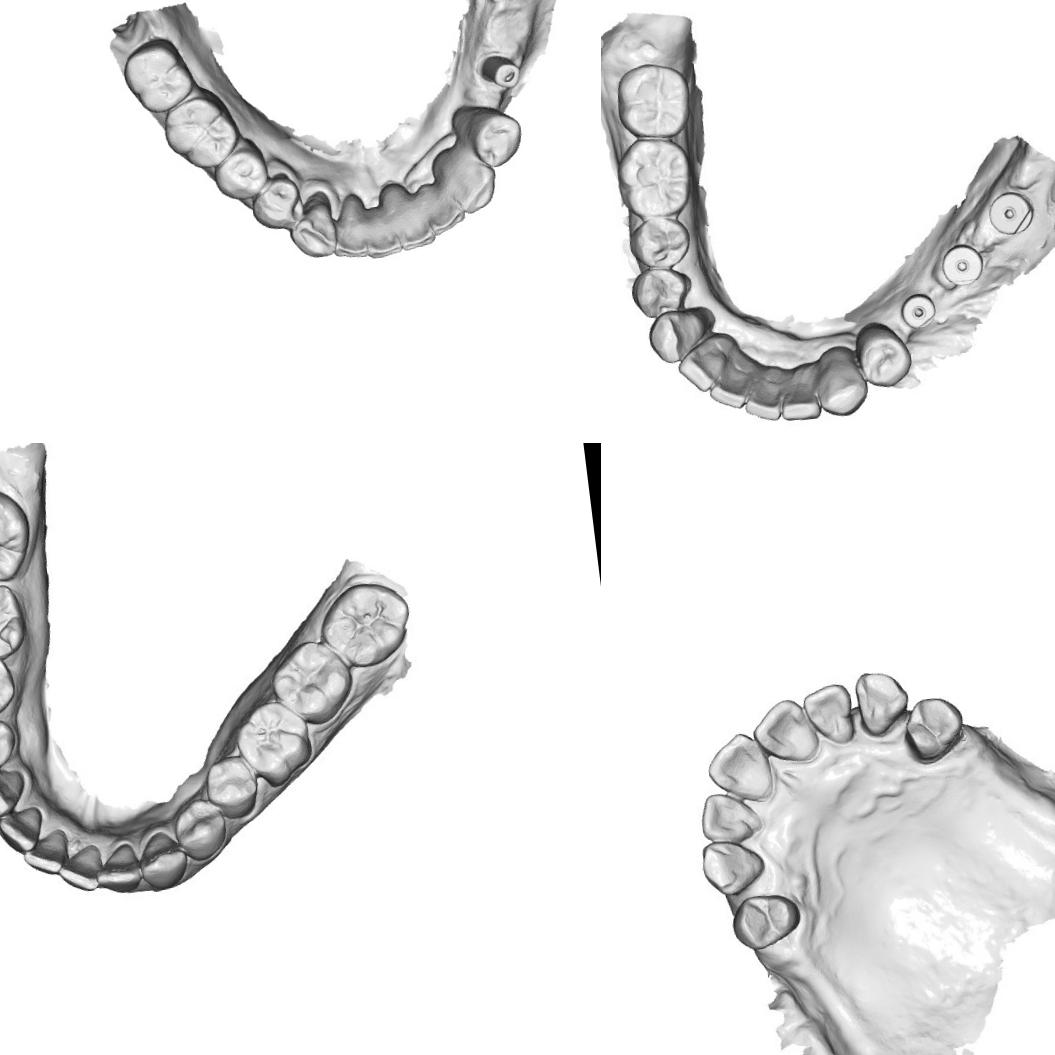abutment: (473, 48, 524, 95)
canine: (450, 98, 527, 173), (646, 304, 720, 366), (811, 344, 869, 421), (849, 666, 909, 738), (698, 835, 767, 895), (286, 192, 341, 266), (136, 828, 191, 892), (0, 765, 27, 820)
implant: (988, 188, 1032, 238), (940, 242, 984, 290), (901, 290, 942, 330)
incisor: (426, 142, 502, 219), (751, 693, 822, 766), (702, 730, 772, 801), (380, 179, 441, 254), (325, 188, 379, 262), (355, 190, 406, 262), (698, 788, 759, 848), (416, 172, 470, 237), (801, 682, 856, 744), (92, 838, 148, 898), (0, 800, 50, 859), (56, 844, 110, 898), (17, 830, 72, 882), (779, 362, 824, 420), (708, 362, 759, 412), (677, 344, 727, 393), (745, 372, 789, 422)
molar: (318, 569, 412, 665), (157, 86, 244, 176), (614, 132, 696, 222), (610, 60, 695, 145), (269, 640, 354, 724), (234, 698, 316, 784), (118, 33, 199, 119), (0, 481, 35, 586), (0, 574, 26, 666)
premolar: (726, 886, 808, 952), (901, 693, 969, 764), (207, 134, 272, 205), (854, 320, 912, 390), (174, 795, 232, 862), (626, 216, 693, 272), (245, 171, 304, 234), (629, 265, 694, 320), (206, 755, 260, 818), (0, 654, 20, 727), (0, 712, 20, 776)
